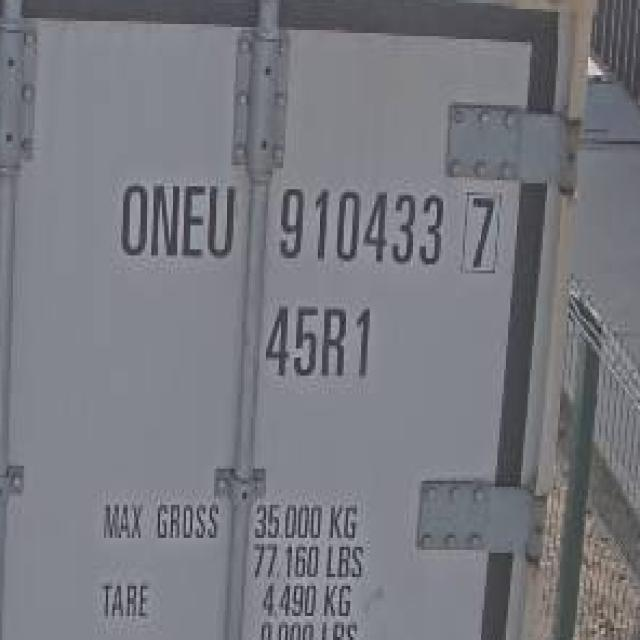dv: (453, 185, 504, 275)
owner: (112, 175, 246, 269)
serial: (266, 172, 449, 268)
size: (259, 299, 381, 381)
